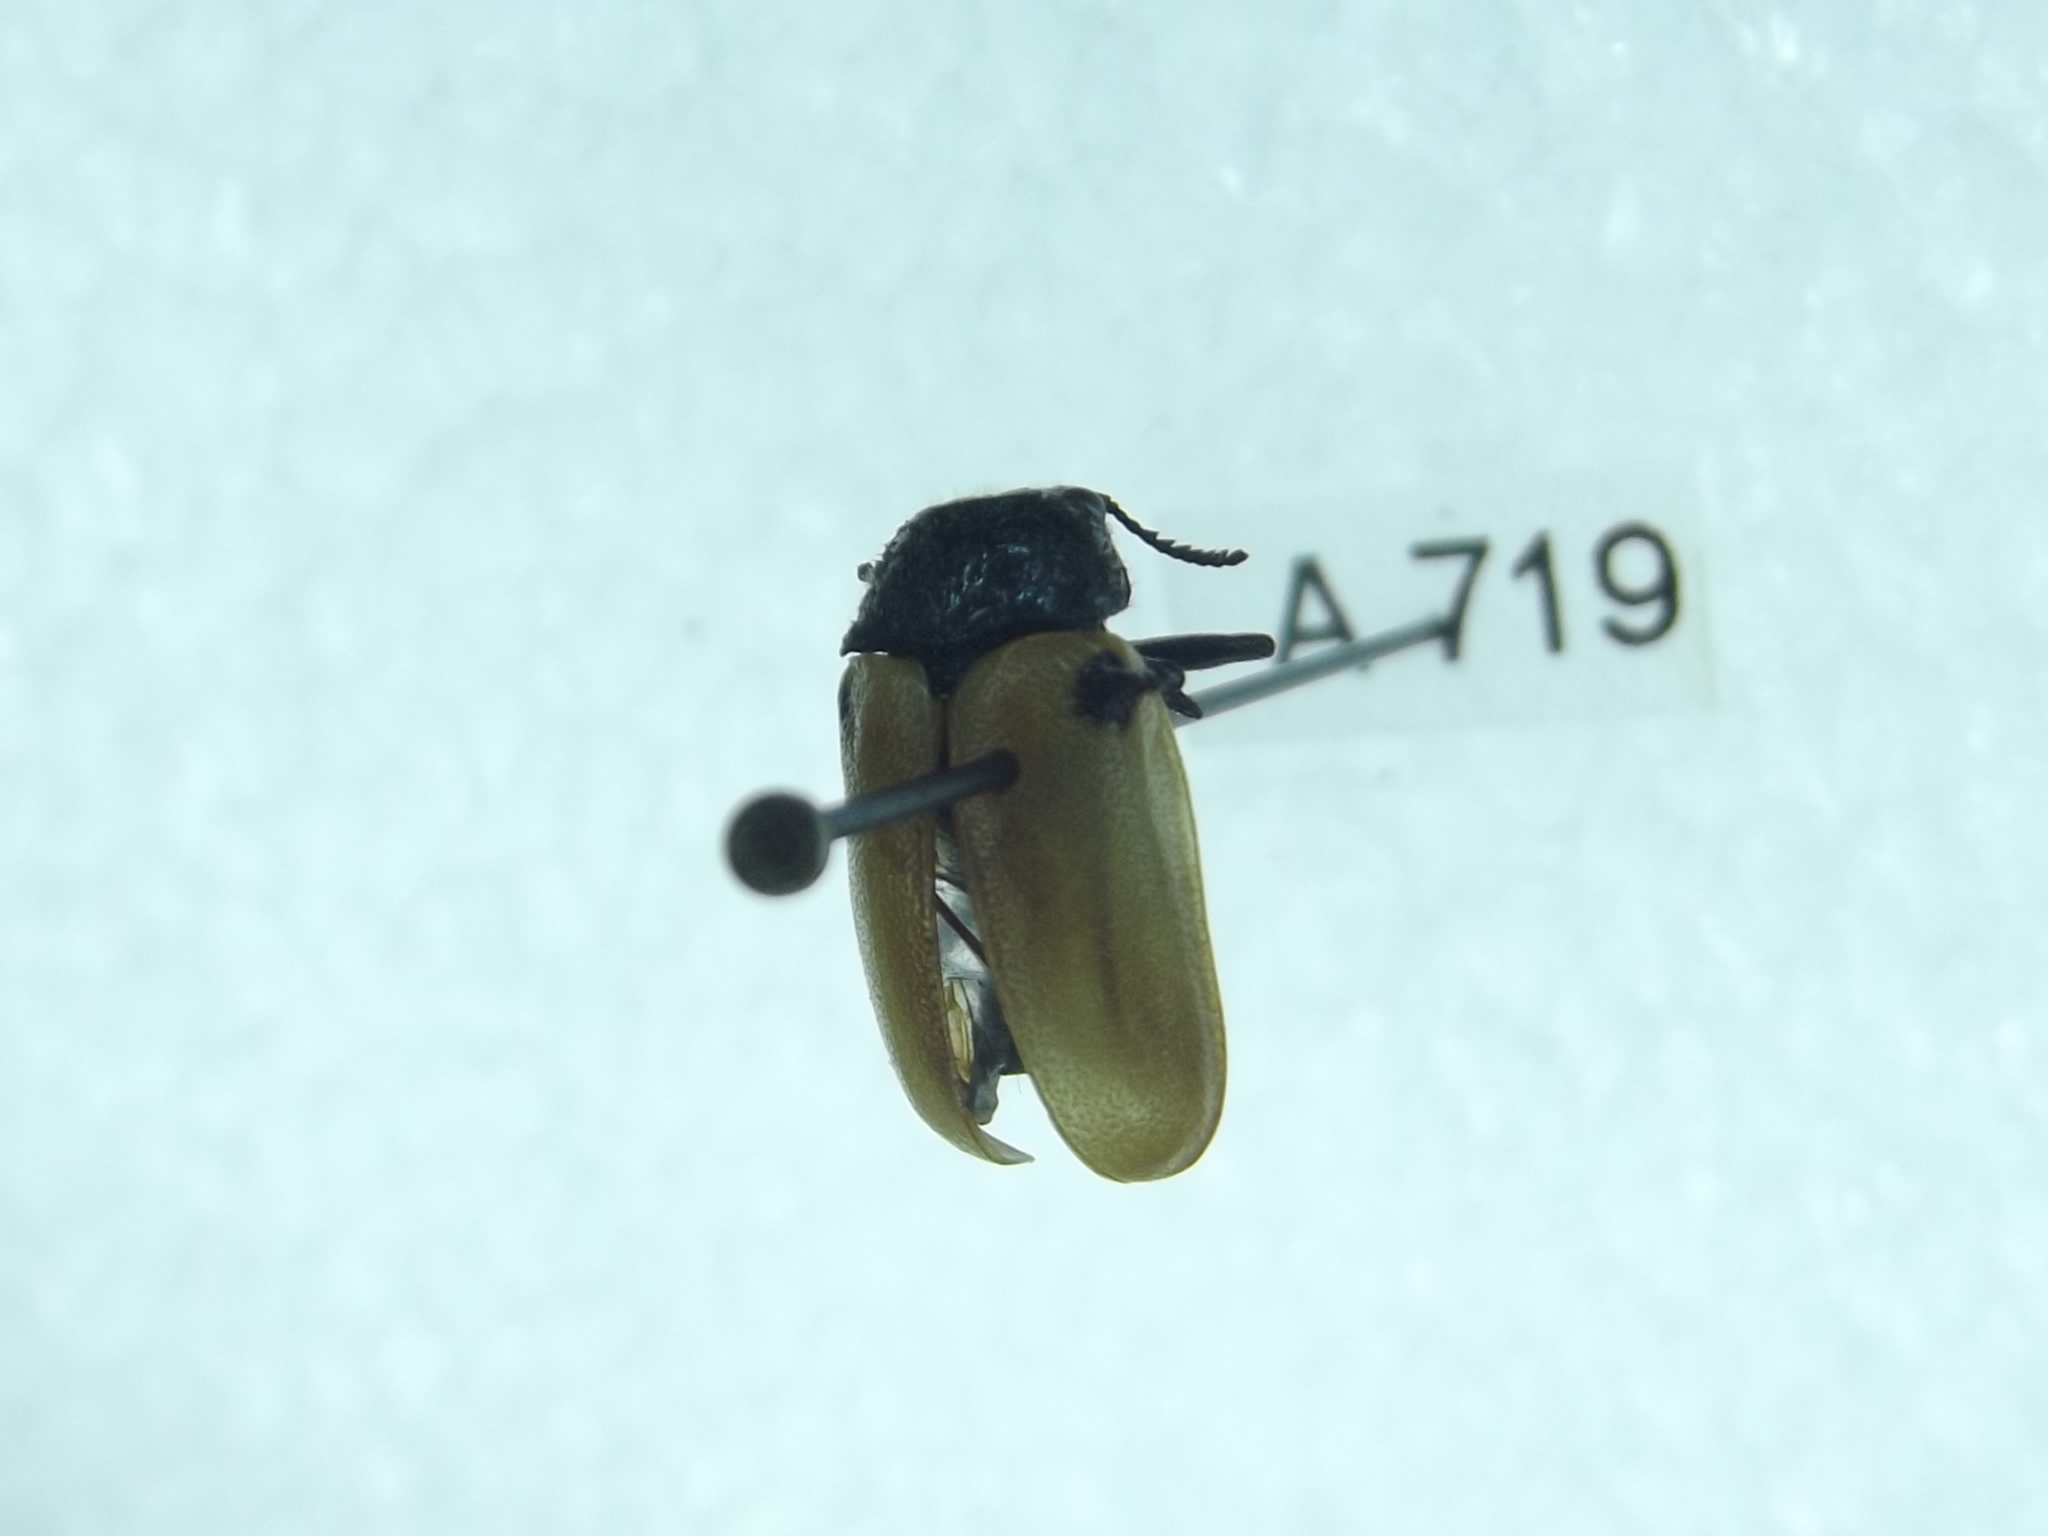Labidostomis_propinqua: (819, 431, 1288, 1192)
